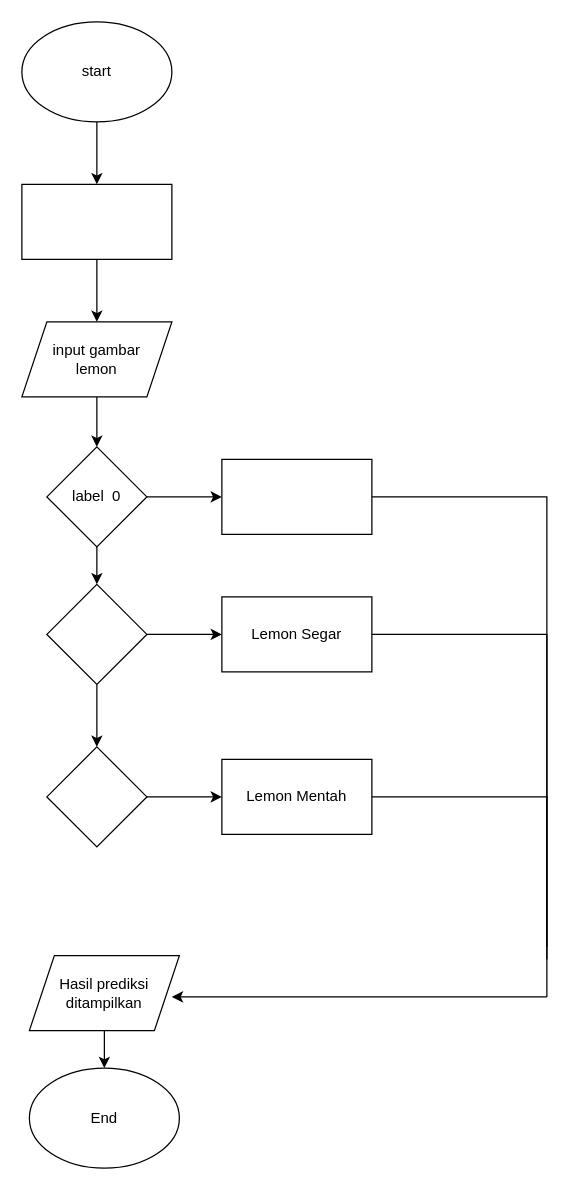
Image size: 579x1190. Some labels were removed from this diagram. Each missing label, with the centre of its shape:
"halaman website" goes at [96,221].
"label 1" goes at [96,633].
"label 2" goes at [96,796].
"Lemon busuk" goes at [296,496].
